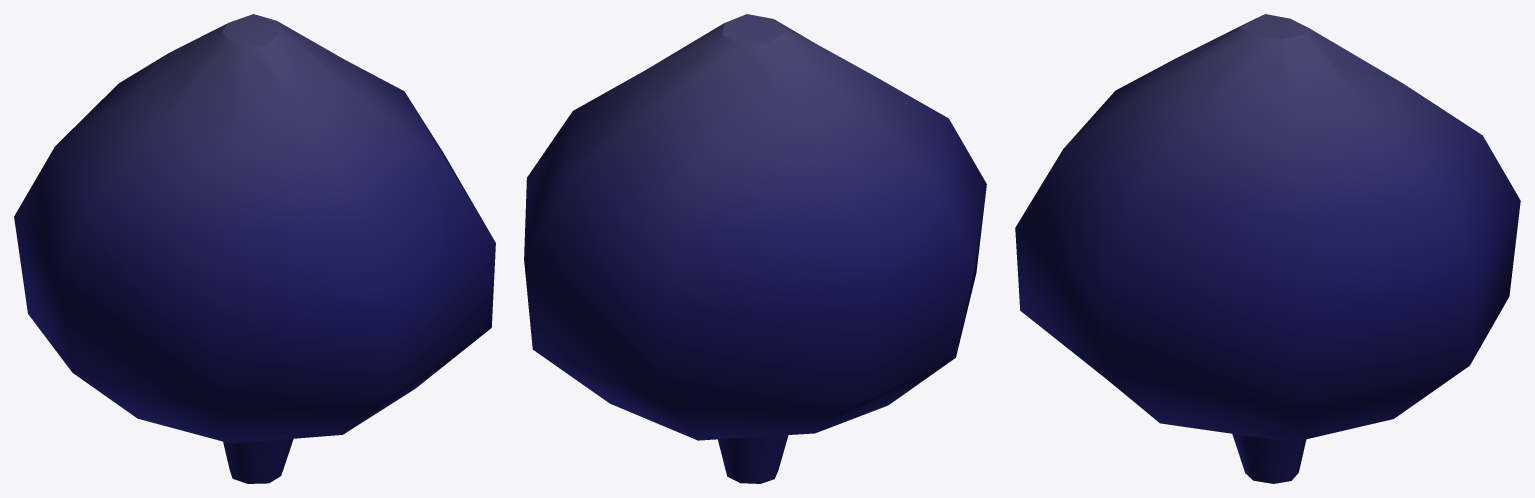
File: SleepMushroomClosed.fbx
3 views of the same model, side by side, from view 1: azimuth 30°, elevation 25°; view 2: azimuth 150°, elevation 25°; view 3: azimuth 270°, elevation 25° (orthographic).
Visible parts, largest first — view 1: sleepmushroomclosed; view 2: sleepmushroomclosed; view 3: sleepmushroomclosed.
Part boxes in pixels (left/top/right/bottom): sleepmushroomclosed: left=14, top=14, right=495, bottom=483; sleepmushroomclosed: left=524, top=14, right=986, bottom=483; sleepmushroomclosed: left=1015, top=14, right=1520, bottom=483.
Size of the model in its own units: 0.6461 by 0.6647 by 0.68.
